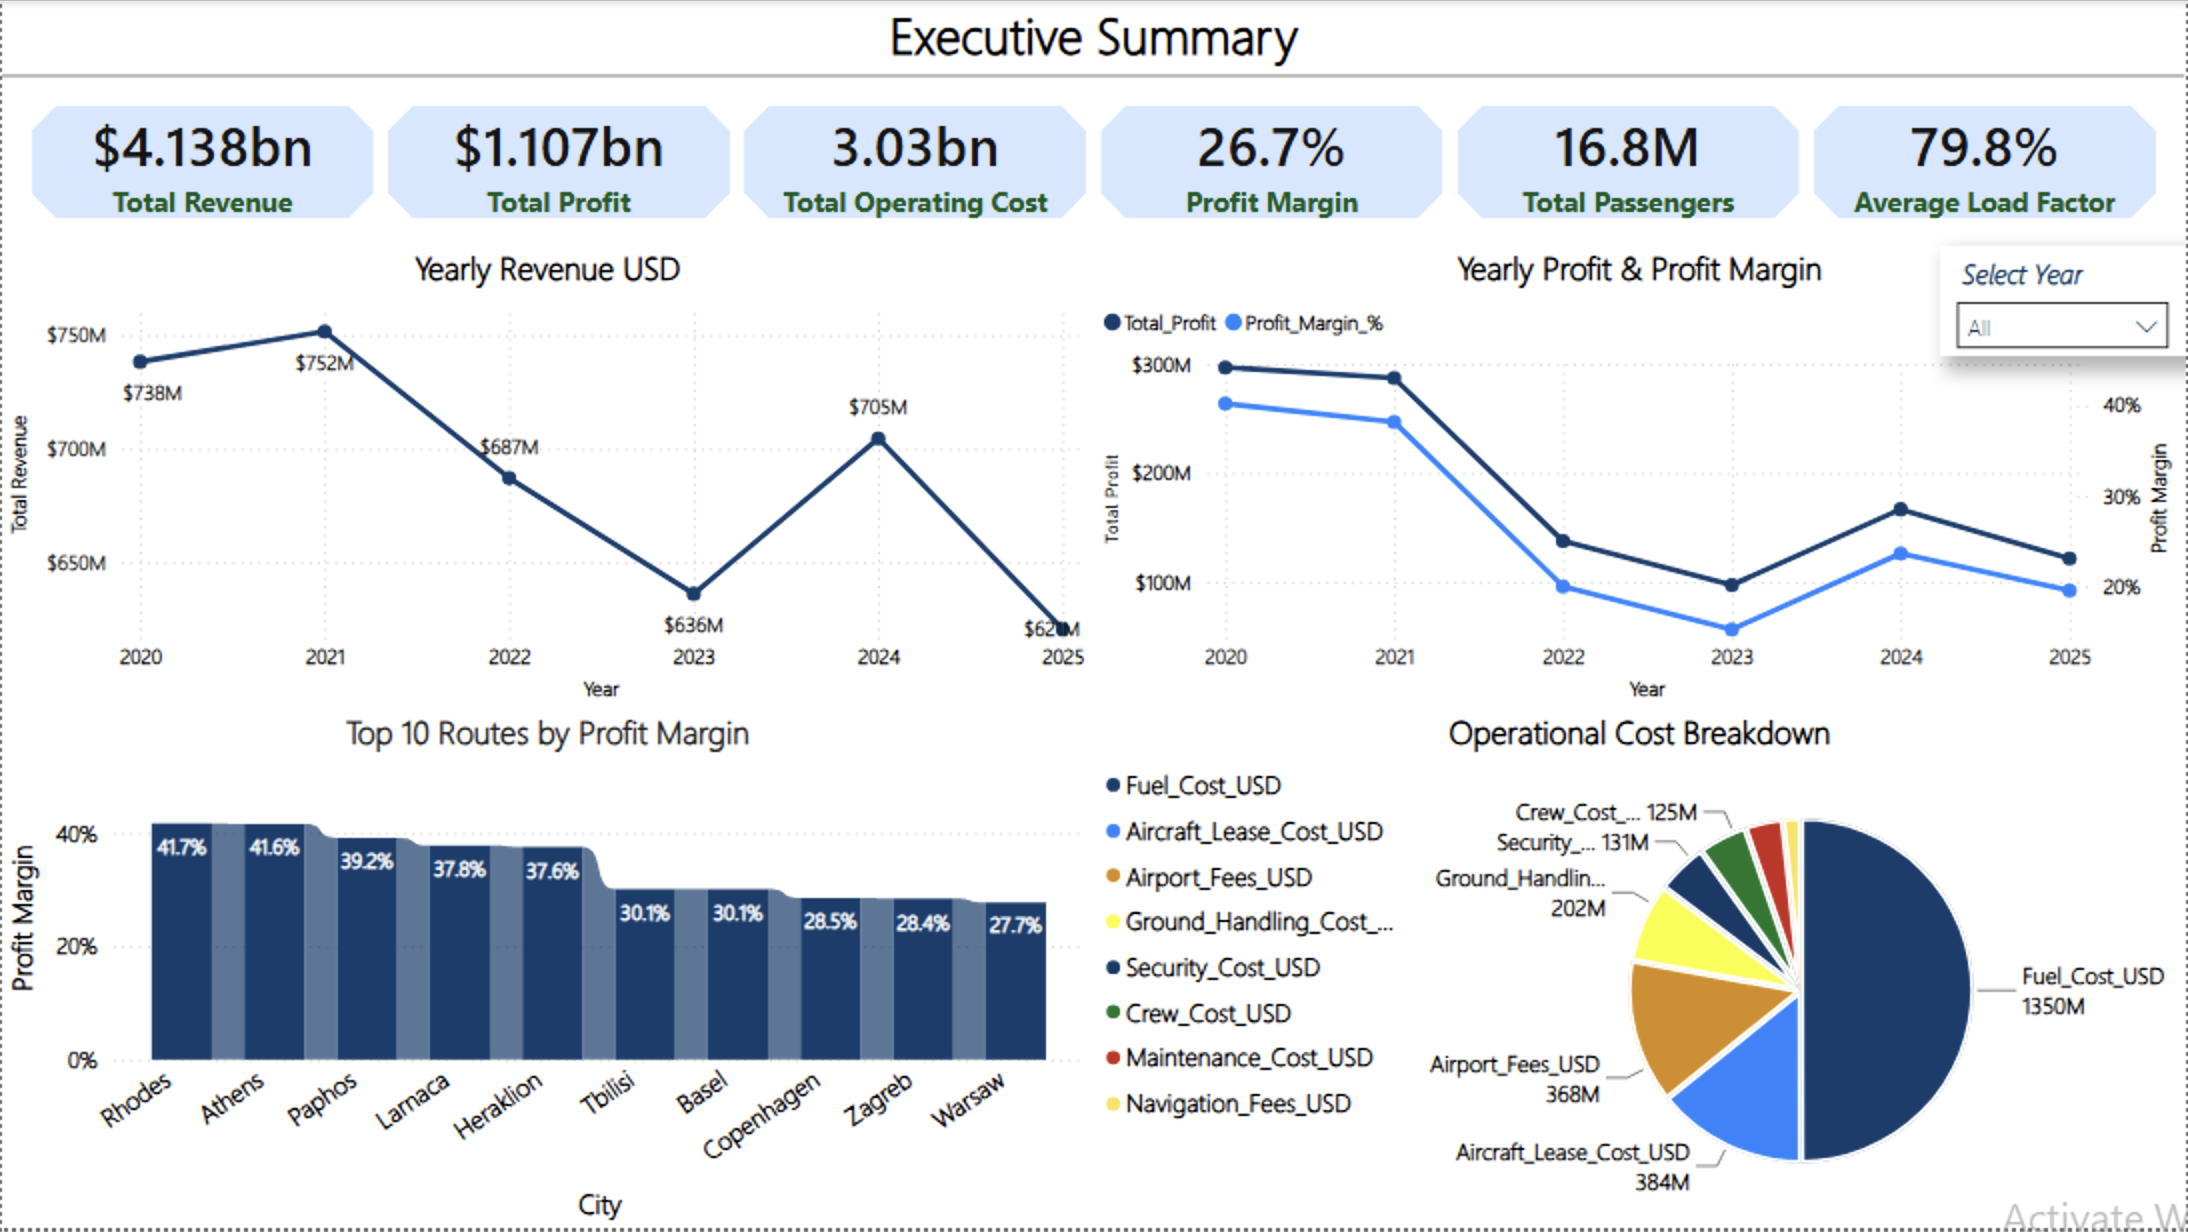

The dashboard page shown, as its layout file describes it:
{"tool":"powerbi","page":{"name":"Executive Summary","canvas":[1280,720],"ordinal":0},"visuals":[{"type":"cardVisual","title":"Executive Summary ","fields":{"Data":["Measures_.Total_Revenue","Measures_.Total_Profit","Measures_.Total_Operating_Cost","Measures_.Profit_Margin_%","Measures_.Total_Passengers","Measures_.Average_Load_Factor"]},"box":[0,0,1280,144],"z":0},{"type":"lineChart","title":"Yearly Revenue USD","fields":{"Y":["Measures_.Total_Revenue"],"Category":["dim_date.Year"]},"box":[0,144,640,272],"z":1000},{"type":"lineChart","title":"Yearly Profit & Profit Margin","fields":{"Y":["Measures_.Total_Profit"],"Category":["dim_date.Year"],"Y2":["Measures_.Profit_Margin_%"]},"box":[640,144,640,272],"z":2000},{"type":"pieChart","title":"Operational Cost Breakdown","fields":{"Category":["fact_cost_breakdown.Cost_Type"],"Y":["Sum(fact_cost_breakdown.Cost_Amount)"]},"box":[640,416,640,304],"z":3000},{"type":"slicer","fields":{"Values":["dim_date.Year"]},"box":[1136,144,144,64],"z":4000},{"type":"ribbonChart","title":"Top 10 Routes by Profit Margin","fields":{"Category":["dim_route.City"],"Y":["Measures_.Profit_Margin_%"]},"box":[0,416,640,304],"z":5000}]}

Visuals, with their boxes in screenshot pixels (x1, y1, x2, y2), scaled from the page's 1280x720 canvas onto the 2188x1232 screenshot:
"Executive Summary " cardVisual: (left=0, top=0, right=2187, bottom=246)
"Yearly Revenue USD" lineChart: (left=0, top=246, right=1094, bottom=712)
"Yearly Profit & Profit Margin" lineChart: (left=1094, top=246, right=2187, bottom=712)
"Operational Cost Breakdown" pieChart: (left=1094, top=712, right=2187, bottom=1231)
slicer - dim_date.Year: (left=1942, top=246, right=2187, bottom=356)
"Top 10 Routes by Profit Margin" ribbonChart: (left=0, top=712, right=1094, bottom=1231)
